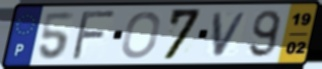5: (36, 10, 74, 62)
7: (162, 7, 203, 62)
9: (248, 9, 283, 59)
F: (69, 9, 120, 62)
O: (119, 10, 163, 60)
V: (211, 10, 251, 58)
